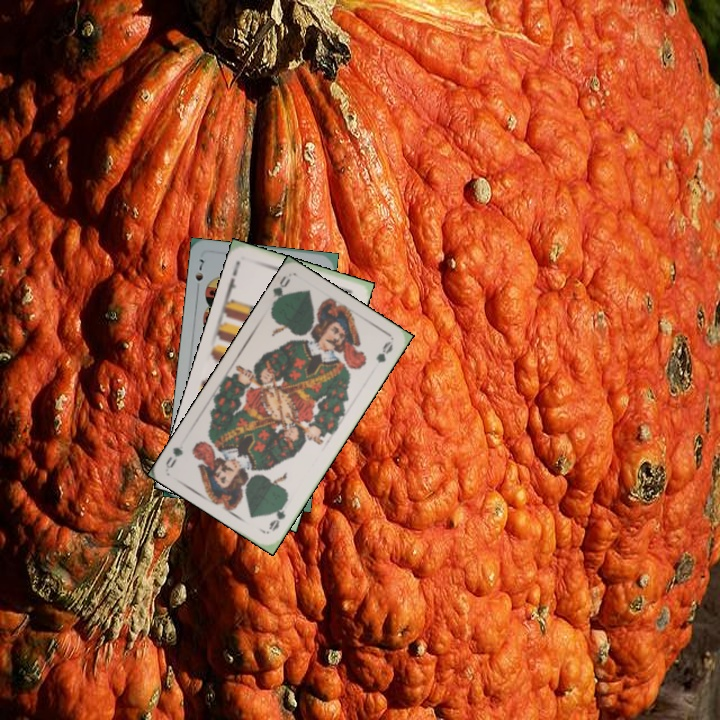E7: (223, 256, 243, 296)
GO: (267, 272, 293, 311), (265, 497, 289, 534)
S7: (191, 255, 206, 294)
